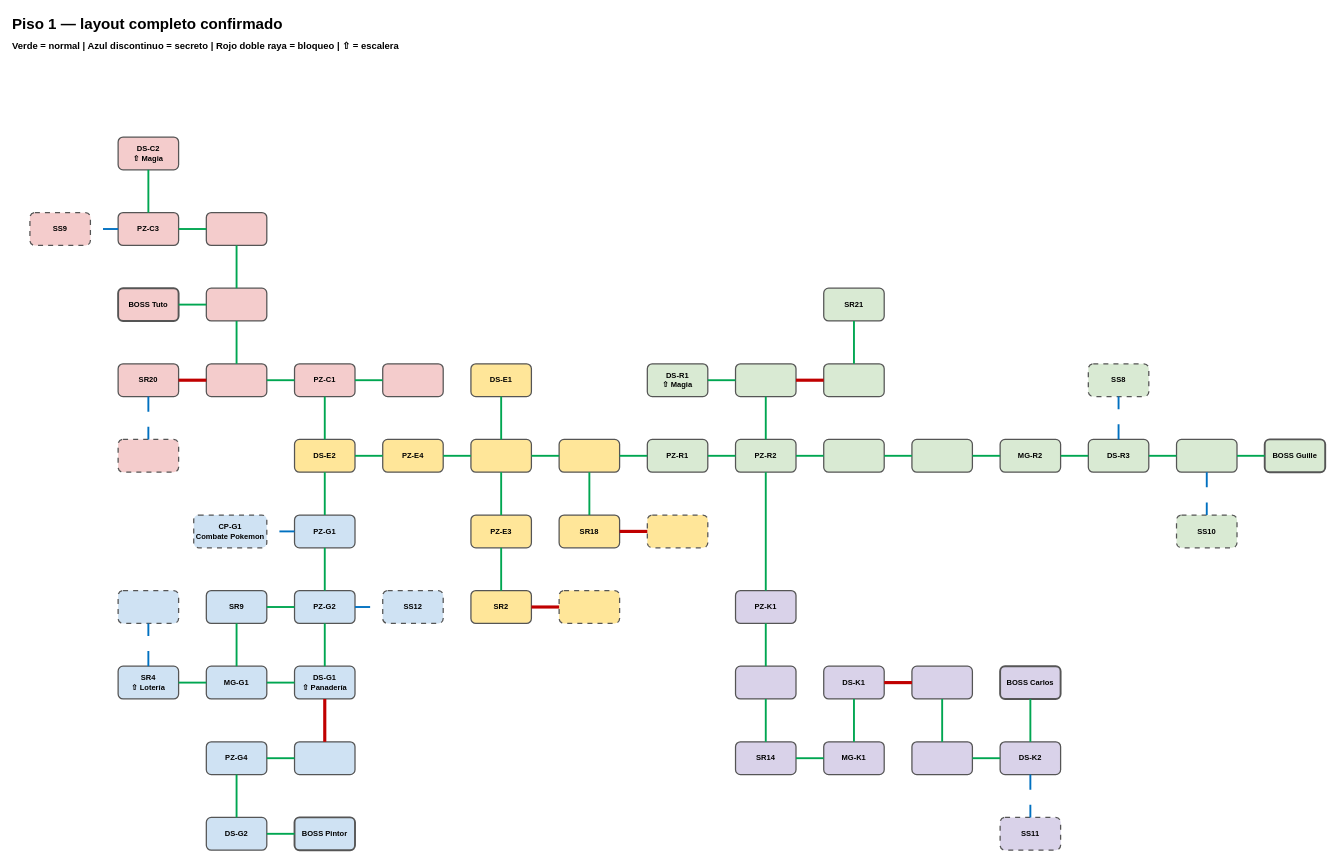
This 1337x862 diagram has some shape labels left out. Here are the shapes that lost their labels. From the top down, the box of each, then its label:
(205, 212, 267, 246): PZ-C2
(205, 287, 267, 321): MG-C1
(205, 363, 267, 397): DS-C1
(382, 363, 444, 397): SR1
(735, 363, 796, 397): MG-R1
(823, 363, 885, 397): SR17
(117, 438, 179, 472): SS2
(470, 438, 532, 472): PZ-E1
(558, 438, 620, 472): PZ-E2
(823, 438, 885, 472): PZ-R3
(911, 438, 973, 472): PZ-R4 ⇧ Gym
(1176, 438, 1237, 472): DS-R2
(646, 514, 708, 548): SS13
(117, 590, 179, 624): SS7
(558, 590, 620, 624): SS1
(735, 665, 796, 699): PZ-K2
(911, 665, 973, 699): PZ-K3
(294, 741, 355, 775): PZ-G3
(911, 741, 973, 775): PZ-K4
